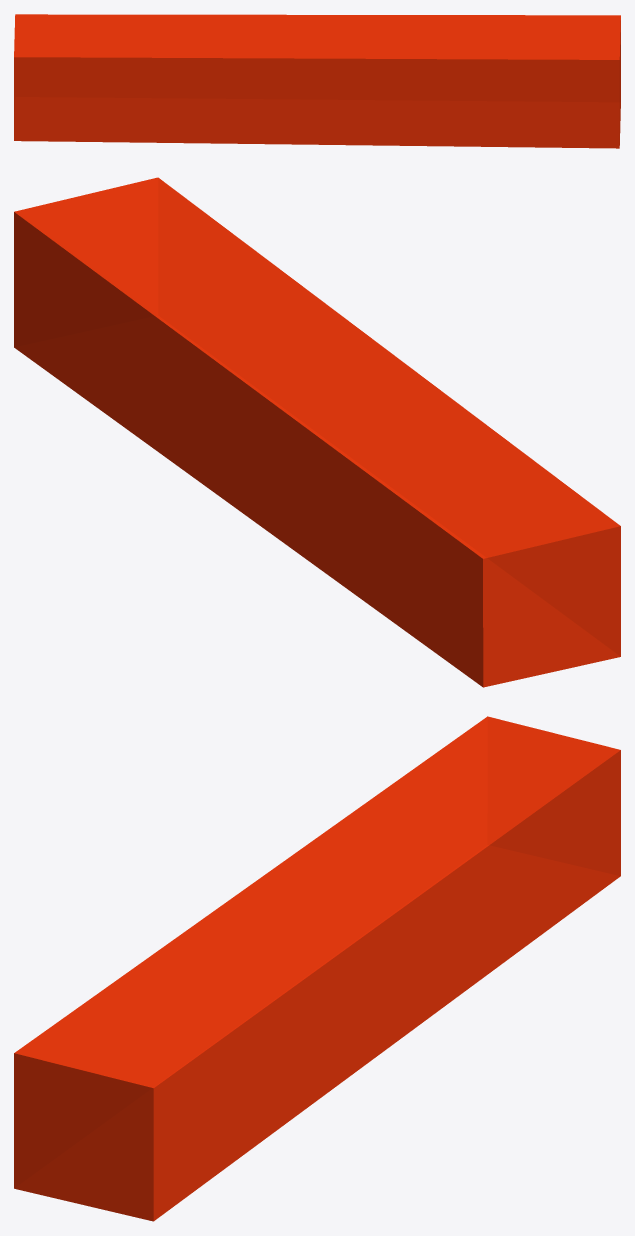
The model's file is Event_420107950_EBrechit_16.fbx.
The picture shows the model from 3 angles, top to bottom: view 1: azimuth 30°, elevation 25°; view 2: azimuth 150°, elevation 25°; view 3: azimuth 270°, elevation 25°; orthographic projection. The views are drawn at different scales.
Visible parts, largest first — view 1: Model; view 2: Model; view 3: Model.
Part boxes in pixels (bbox=[...]): Model: bbox=[14, 14, 620, 148]; Model: bbox=[14, 177, 620, 687]; Model: bbox=[14, 716, 620, 1221].
Bounding box in the file's own units: 0.3496 × 0.0594 × 0.241.
